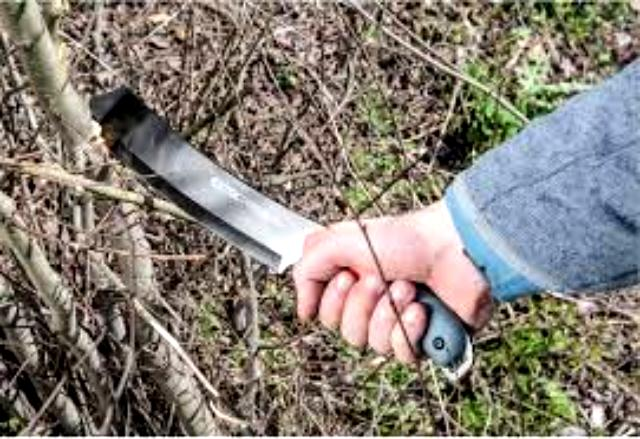long knife: (75, 87, 475, 375)
